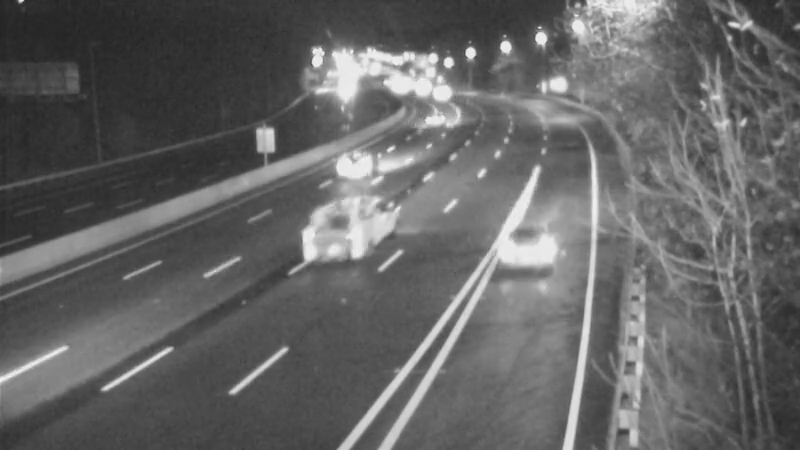vehicle: (323, 119, 403, 199), (278, 207, 358, 287), (481, 206, 561, 286), (423, 72, 473, 122), (408, 96, 458, 146)
